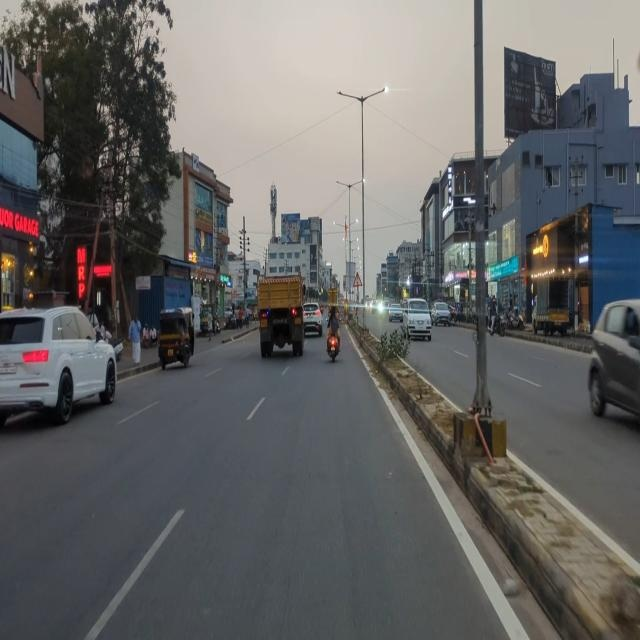bien_nguy_hiem: (351, 272, 363, 287)
